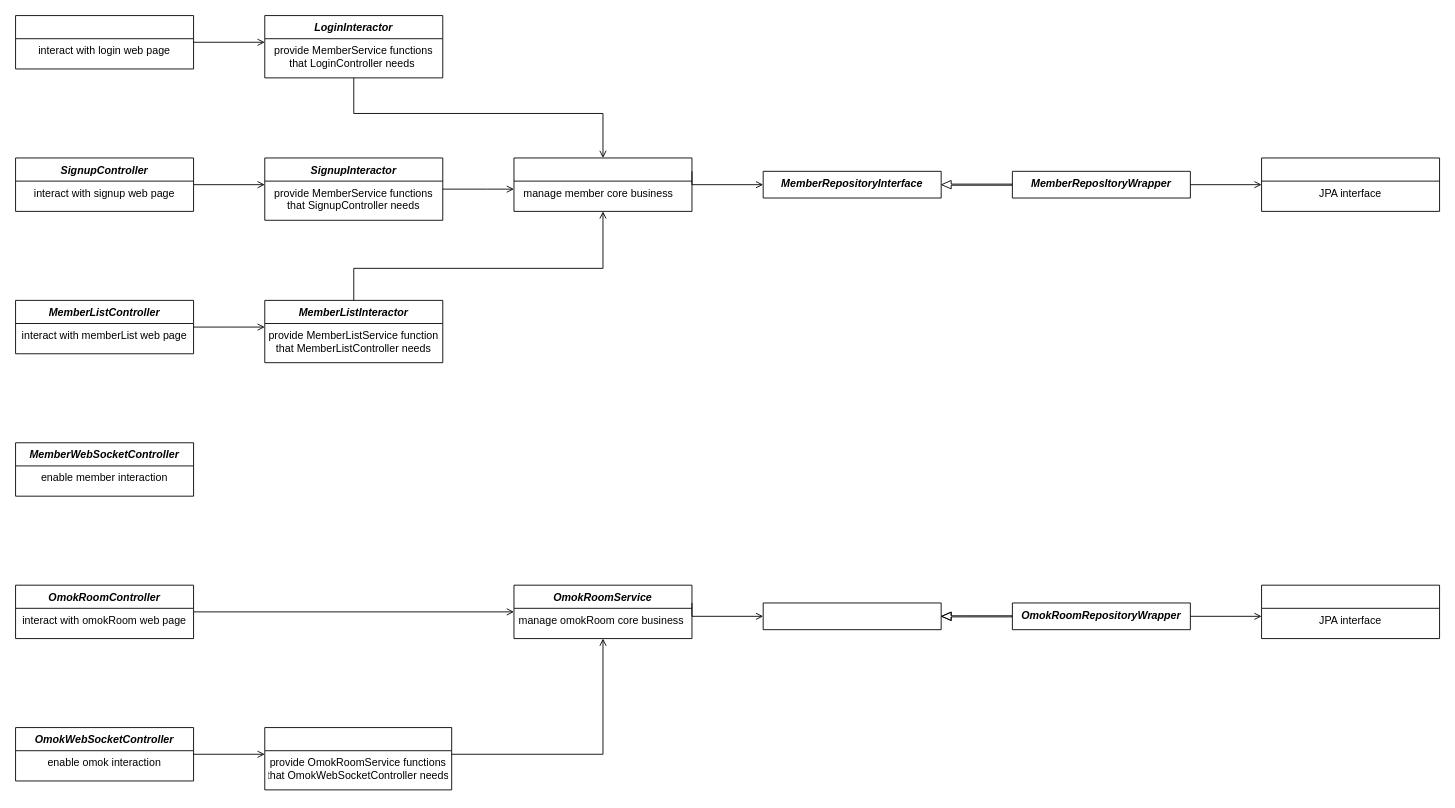
The diagram is 1455 pixels wide and 808 high, and some of its shapes have lost their labels. Here are the shapes that lost their labels. From the top down, the box of each, then its label:
(15, 15, 194, 69): LoginController
(513, 157, 692, 211): MemberService
(1261, 157, 1440, 211): MemberReposltory
(762, 602, 941, 630): OmokRoomRepositoryInterface
(1261, 584, 1440, 639): OmokRoomRepository
(264, 727, 452, 790): OmokWebSokcetInteractor
